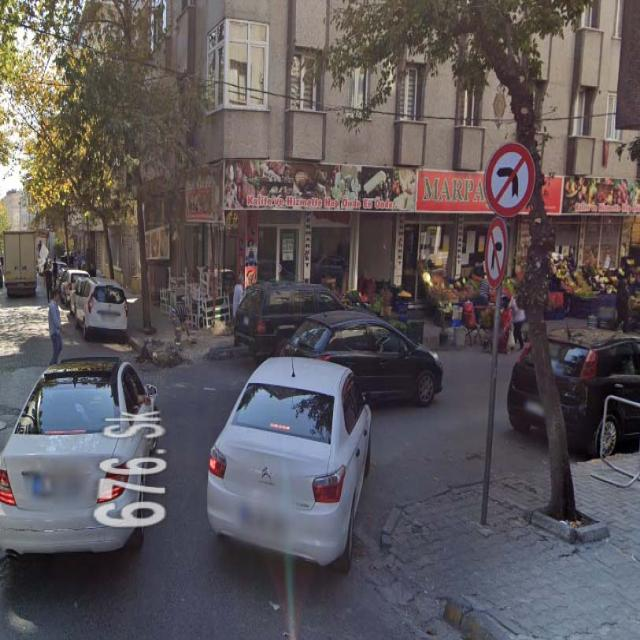sagadonulmez: (485, 220, 507, 288)
soladonulmez: (486, 144, 536, 218)
